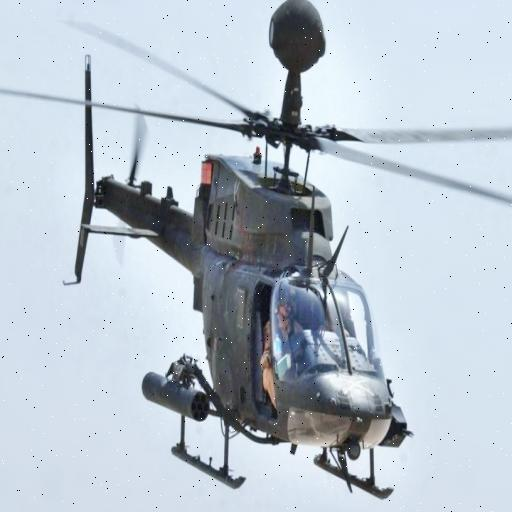helicopter: (1, 1, 512, 504)
